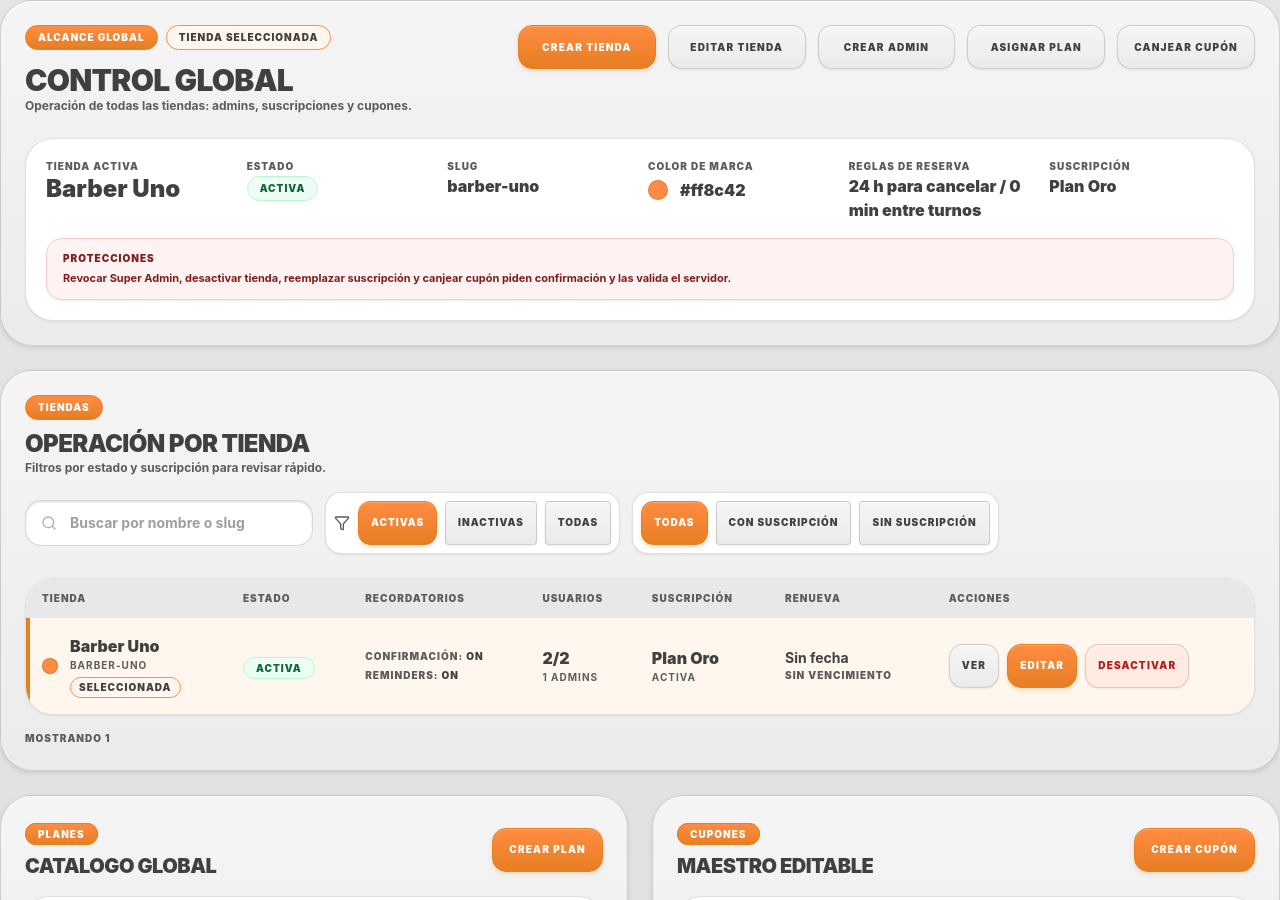
Test: SuperAdminPage › un 422 en el slug dice el formato, nunca el texto crudo
Click the button "Crear tienda" at coordinates (587, 47), box [518,25,656,69]
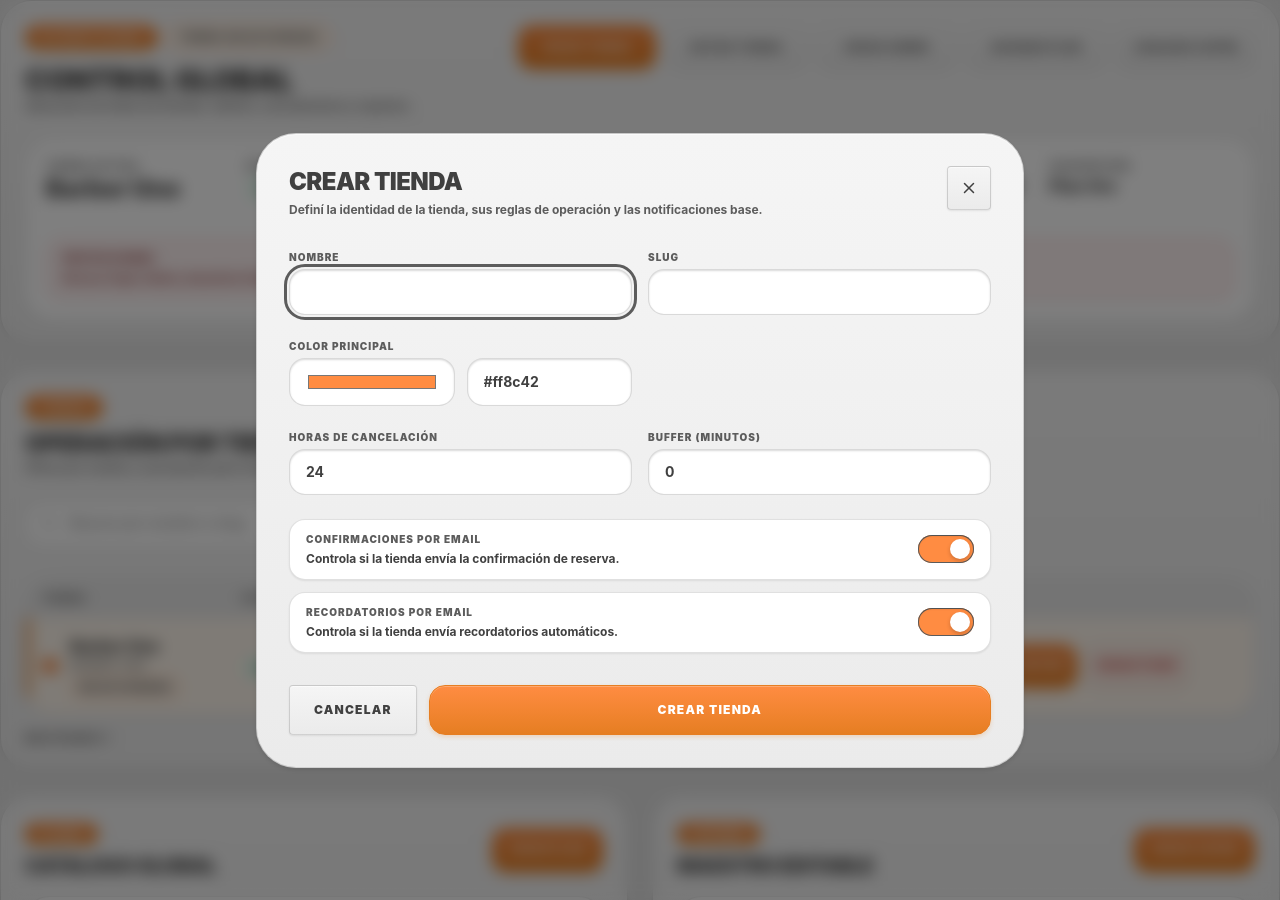
Type "Barber Dos" into the field labelled "Nombre" at coordinates (460, 292), box [289,268,632,314]
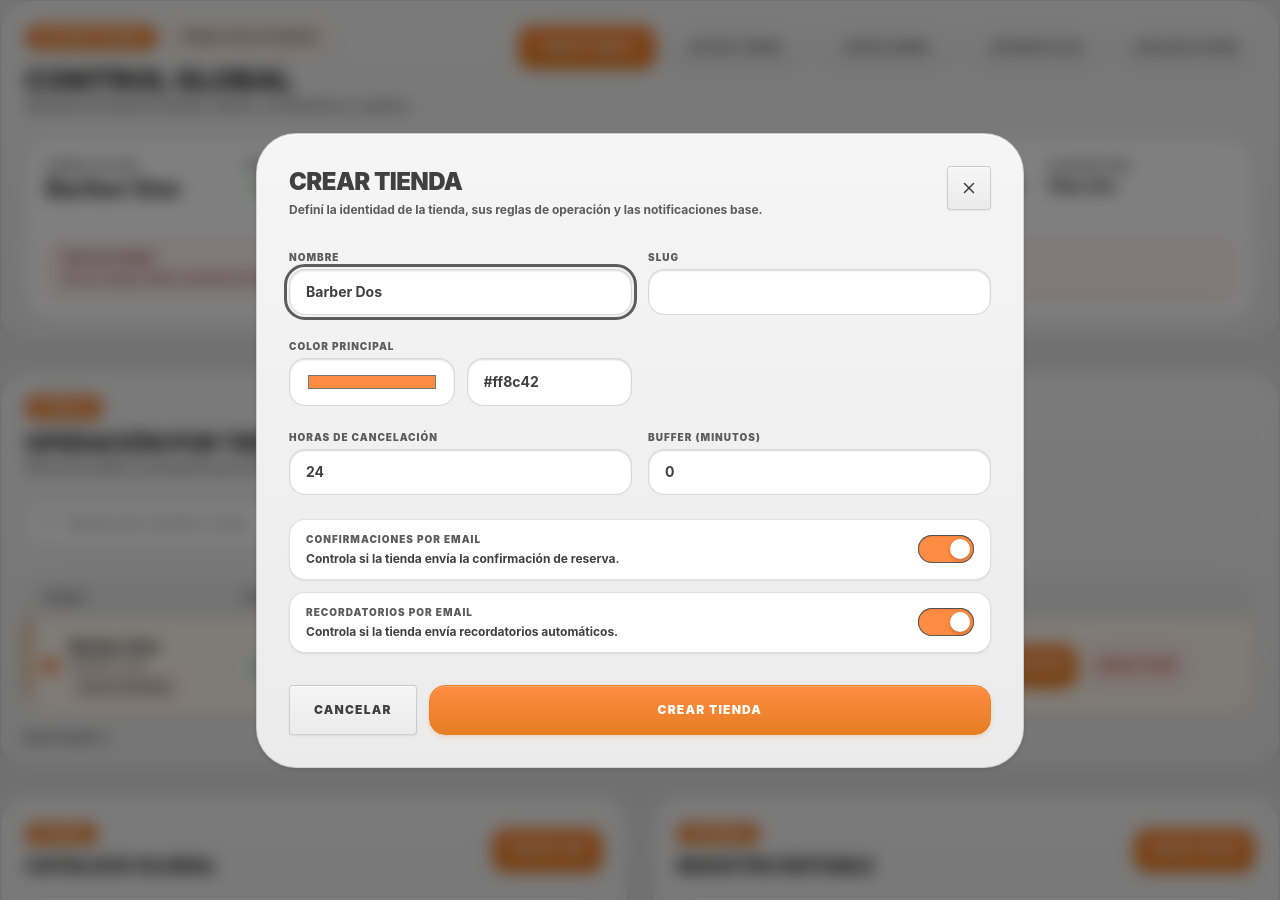
Type "barber-dos" into the field labelled "Slug" at coordinates (820, 292), box [648,268,991,314]
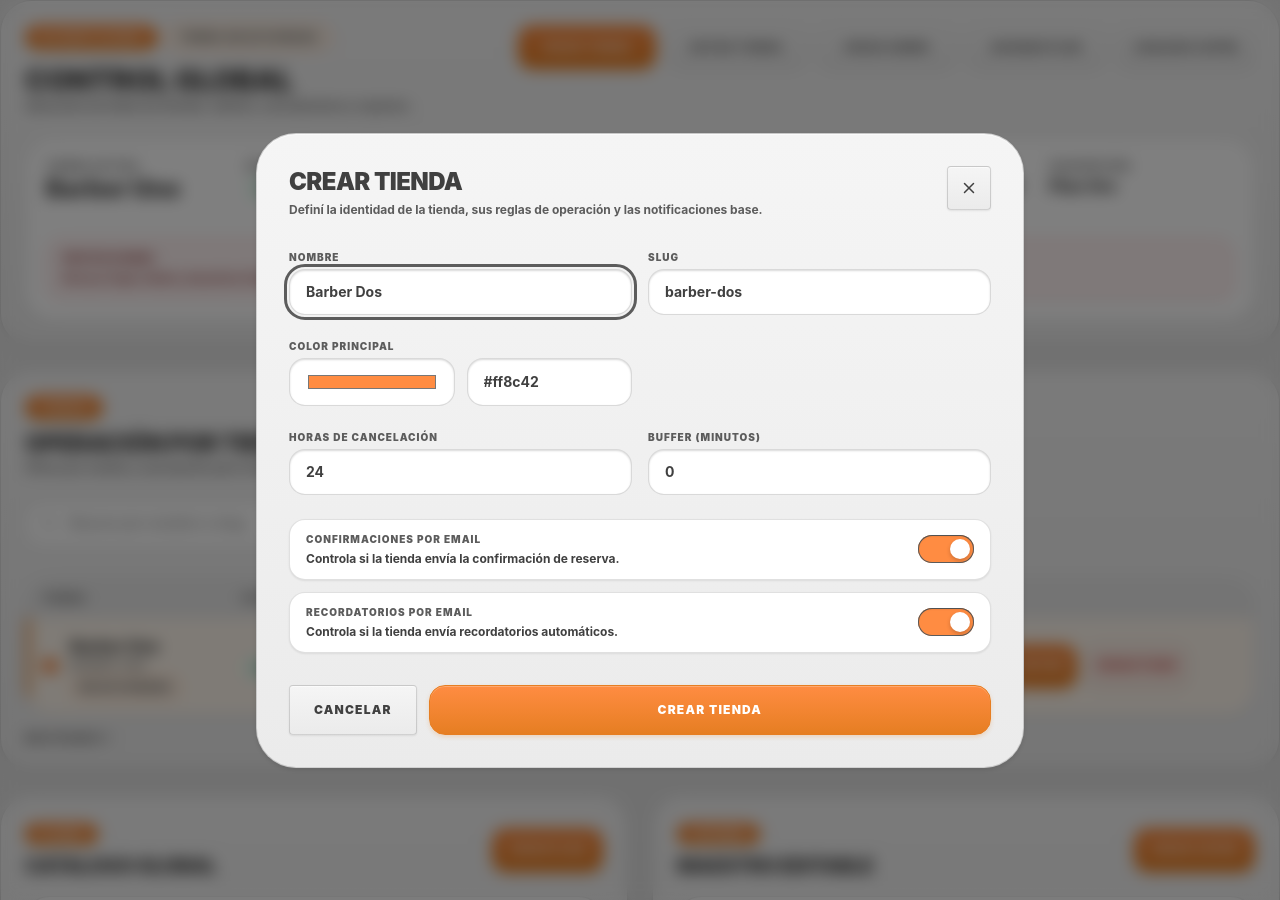
Submit the form, box [289,250,991,734]
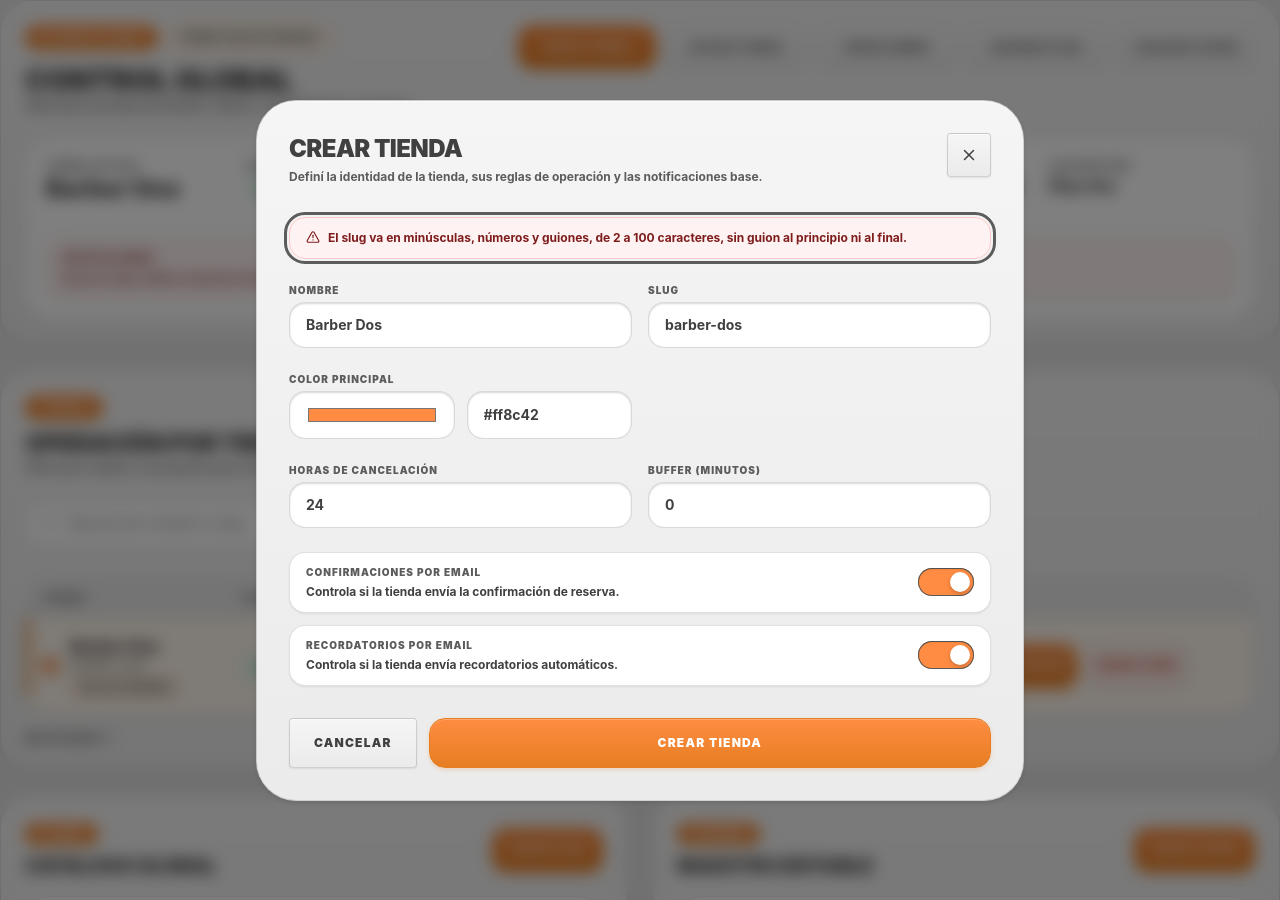
Check: the message does not show "pattern", box [289,216,991,258]
Check: the message shows "minúsculas, números y guiones", box [328,230,907,244]
